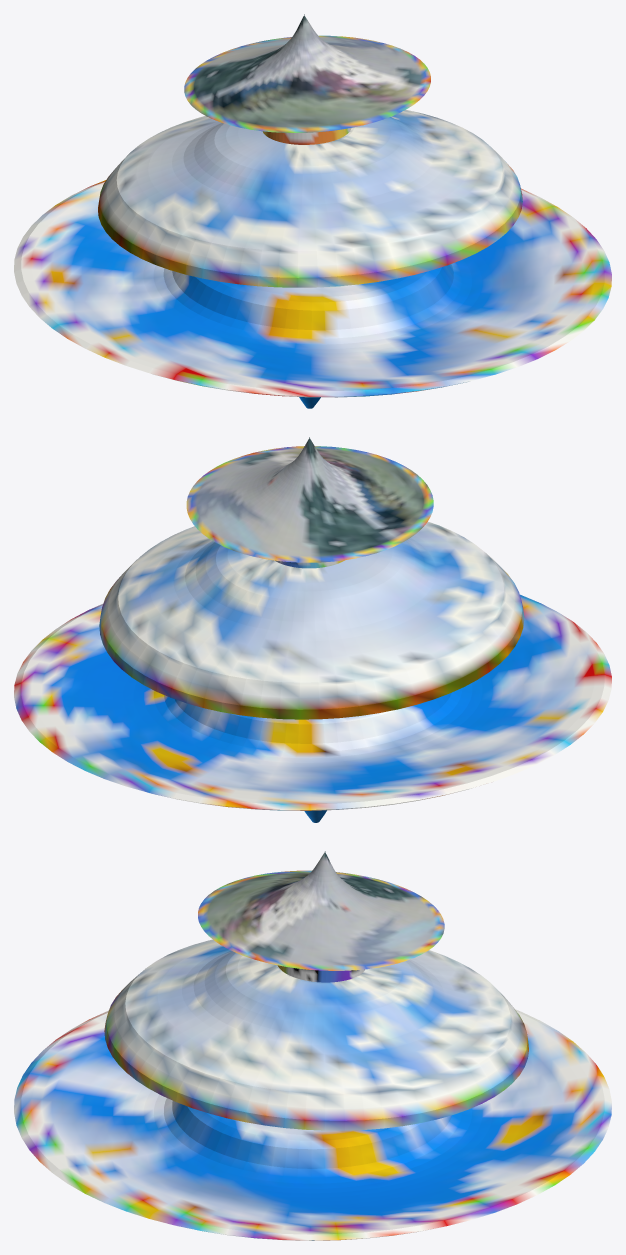
The model's file is firstsalinatest.glb.
The picture shows the model from 3 angles, top to bottom: view 1: azimuth 30°, elevation 25°; view 2: azimuth 150°, elevation 25°; view 3: azimuth 270°, elevation 25°; orthographic projection.
Parts seen in each view (by area): view 1: Lathe 4, Lathe 3, Lathe, Lathe.001; view 2: Lathe 4, Lathe 3, Lathe; view 3: Lathe 4, Lathe 3, Lathe, Lathe.001.
Boxes of the visible parts, box(x1,y1,x2,y2) form: Lathe 4: box(14, 180, 611, 408); Lathe 3: box(98, 110, 522, 287); Lathe: box(184, 14, 430, 132); Lathe.001: box(262, 128, 351, 144); Lathe 4: box(14, 594, 611, 822); Lathe 3: box(99, 521, 524, 719); Lathe: box(186, 437, 433, 562); Lathe 4: box(14, 1009, 611, 1240); Lathe 3: box(104, 939, 528, 1130); Lathe: box(198, 851, 444, 970); Lathe.001: box(277, 965, 364, 982).
Size of the model in its own units: 2.73 by 1.95 by 2.72.
